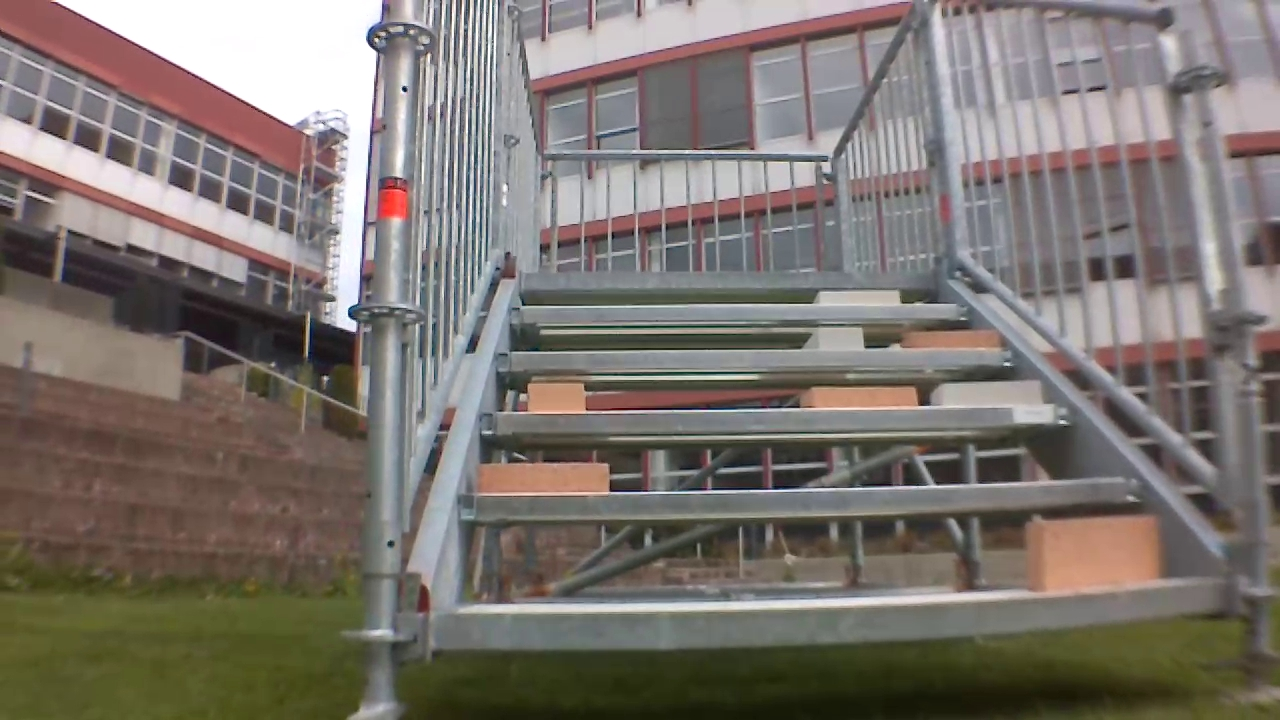brick: (1024, 517, 1158, 591), (935, 372, 1045, 410), (802, 381, 916, 416), (476, 467, 610, 493), (814, 288, 906, 309), (521, 385, 583, 410), (905, 331, 990, 349), (804, 329, 860, 355)
edge: (459, 469, 1147, 527), (423, 580, 1235, 617), (481, 397, 1079, 435), (496, 343, 1024, 375), (510, 297, 976, 325), (513, 266, 951, 288)
stairs: (386, 0, 1265, 715)
steps: (429, 264, 1238, 651)
